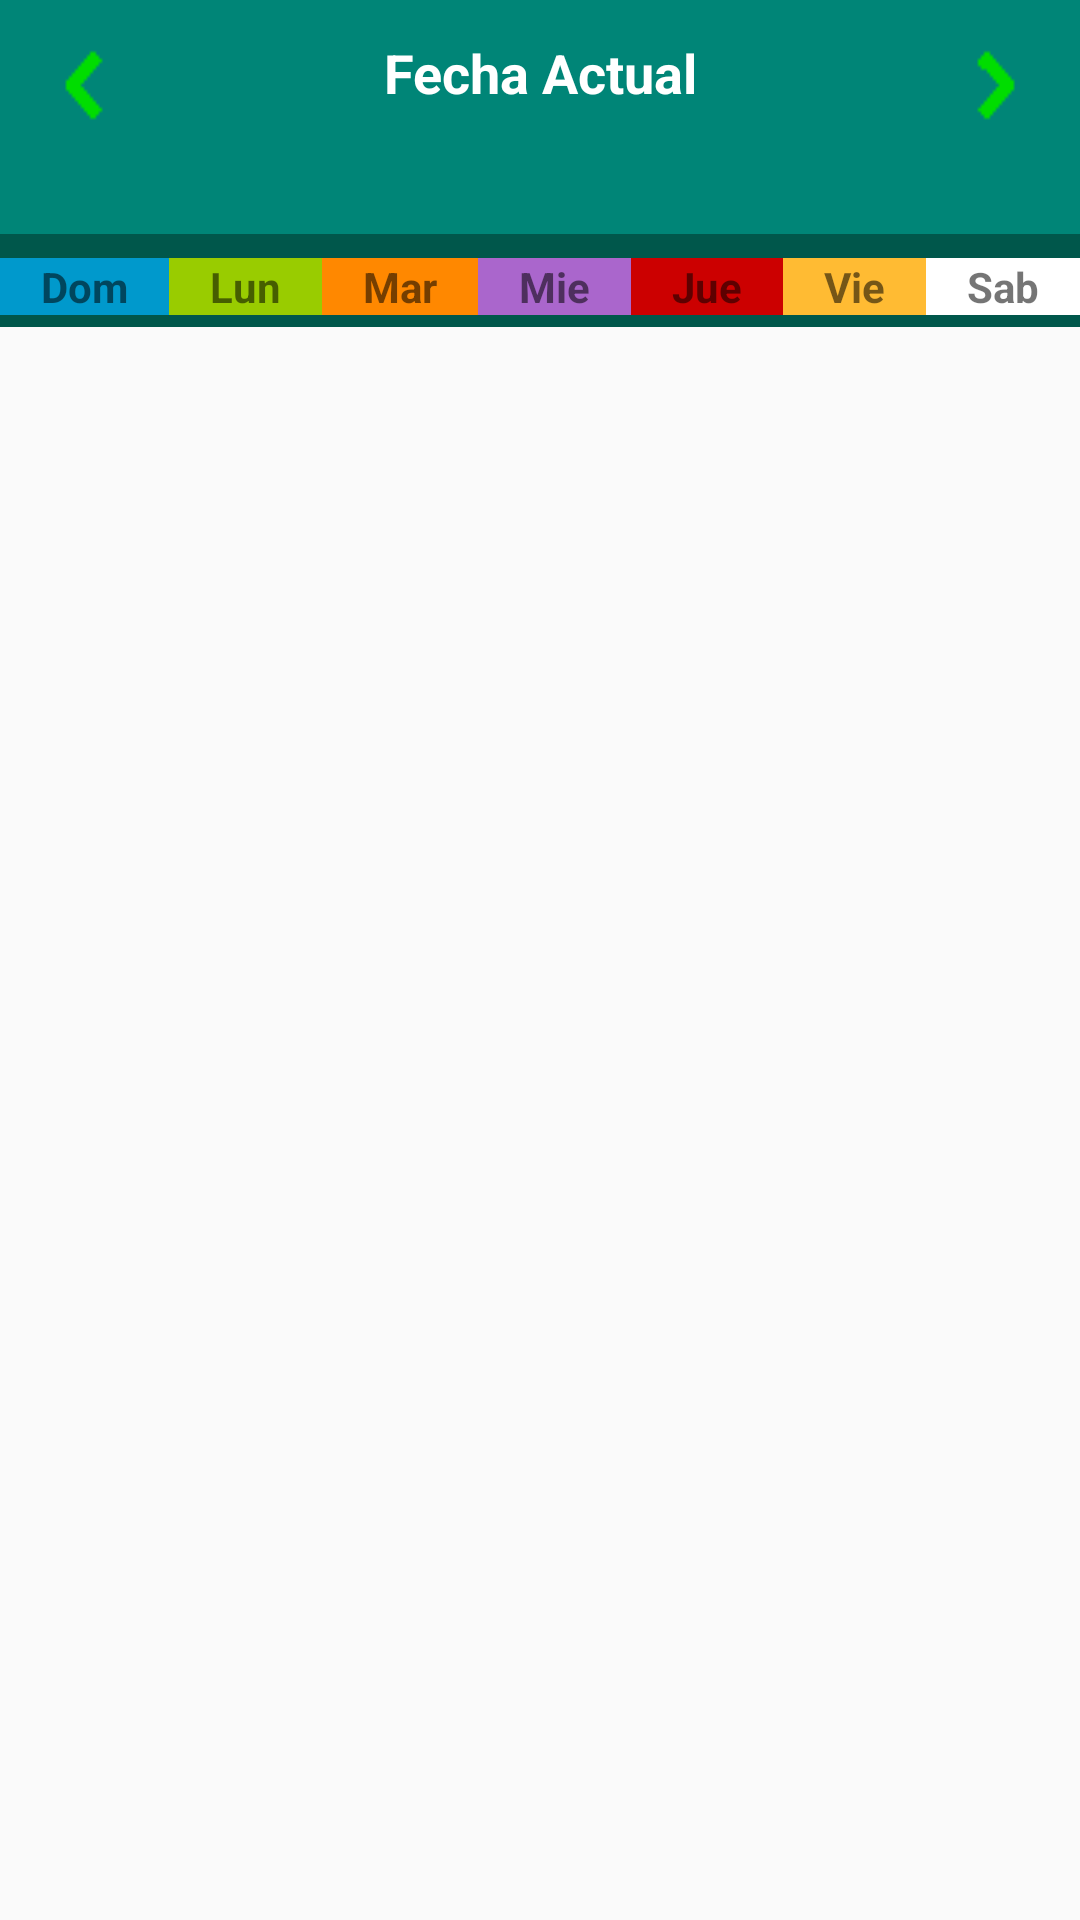

Icon bounding boxes for this 1080w x 1920h phone screenshot, format [left=x1, top=y1, right=x2, bottom=y2]:
next: [left=977, top=51, right=1015, bottom=120]
prev: [left=65, top=51, right=103, bottom=120]
